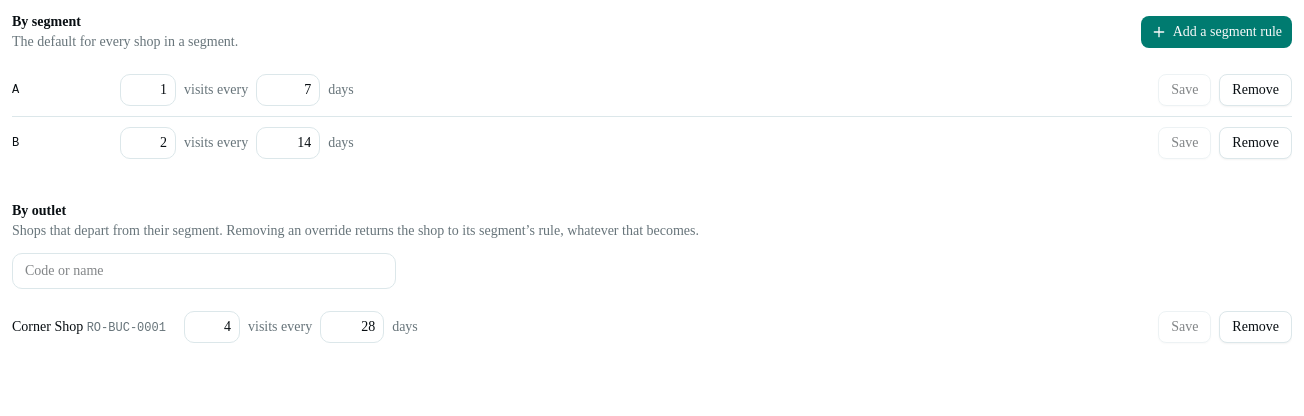
Test: <CallFrequencies> › shows the server's refusal in the reader's language
The width and height of the screenshot is (1304, 416).
Expected: the button "Add a segment rule" is shown, [1141,16,1292,48]
Replace the text in the field named "Visits per cycle, A" with "3" at coordinates (148, 90), box [120,74,176,106]
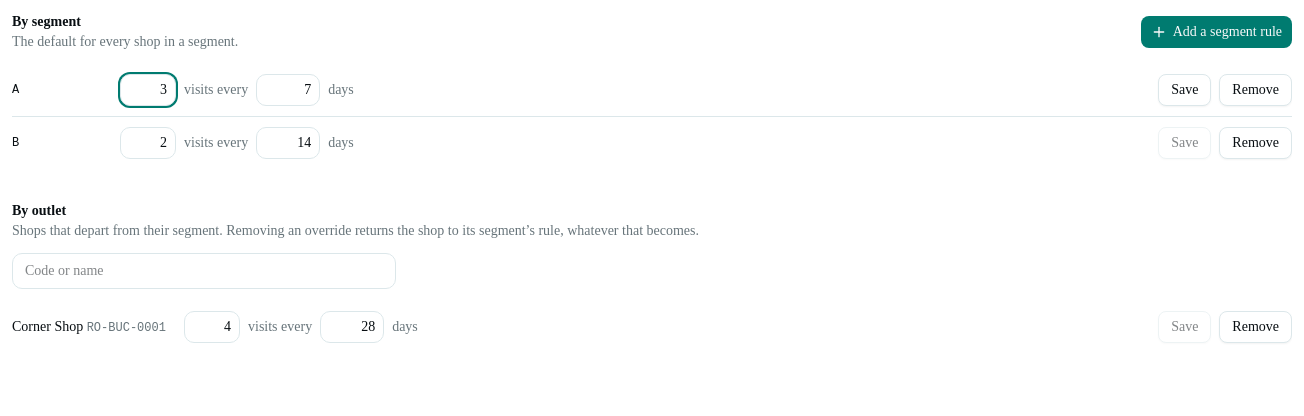
Click the button with aria-label "Save the rule for segment A" at coordinates (1185, 90), box [1158,74,1211,106]
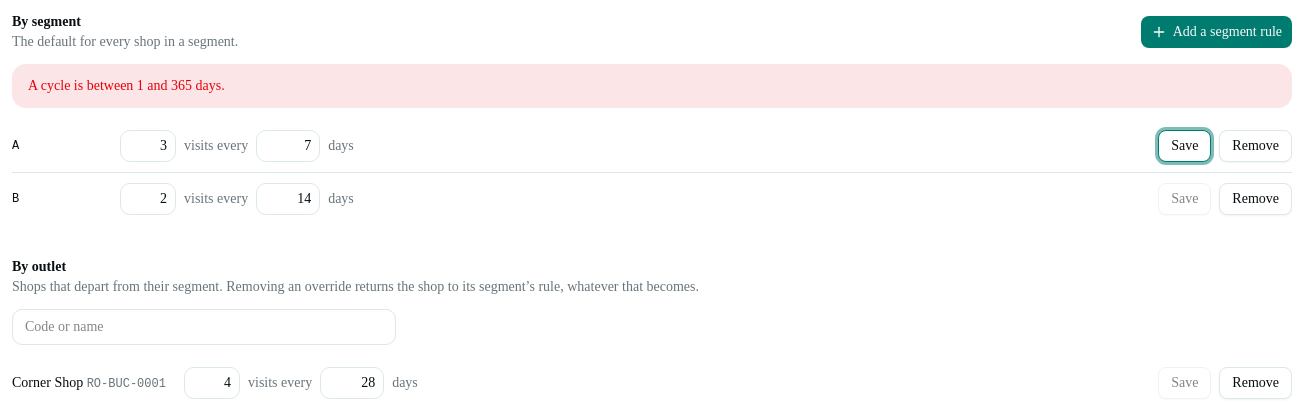
Result: the message "A cycle is between 1 and 365 days." is shown at [12,64,1292,108]
Result: the message shows "between 1 and 365 days" at [28,78,225,93]
